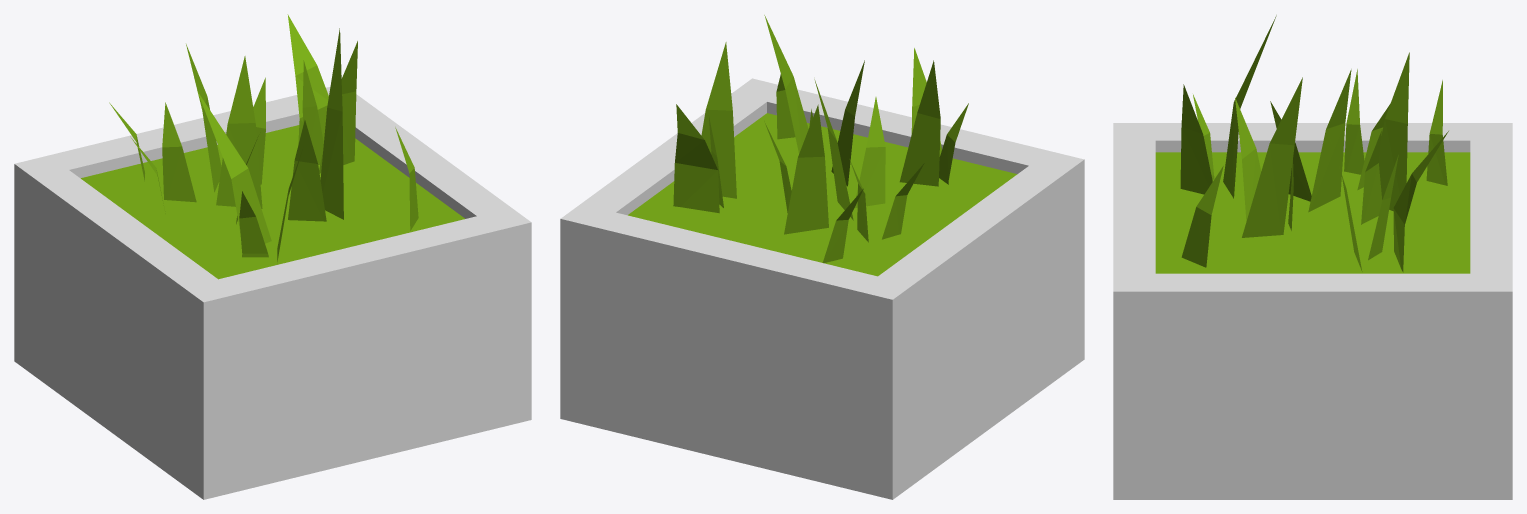
File: Flower_Bed.fbx
3 views of the same model, side by side, from view 1: azimuth 30°, elevation 25°; view 2: azimuth 150°, elevation 25°; view 3: azimuth 270°, elevation 25° (orthographic). The views are drawn at different scales.
Parts seen in each view (by area): view 1: Flower_bed; view 2: Flower_bed; view 3: Flower_bed.
Part boxes in pixels (x1=…): Flower_bed: x1=14, y1=14, x2=531, y2=499; Flower_bed: x1=560, y1=15, x2=1084, y2=499; Flower_bed: x1=1113, y1=15, x2=1512, y2=499.
Size of the model in its own units: 156 by 160 by 156.
